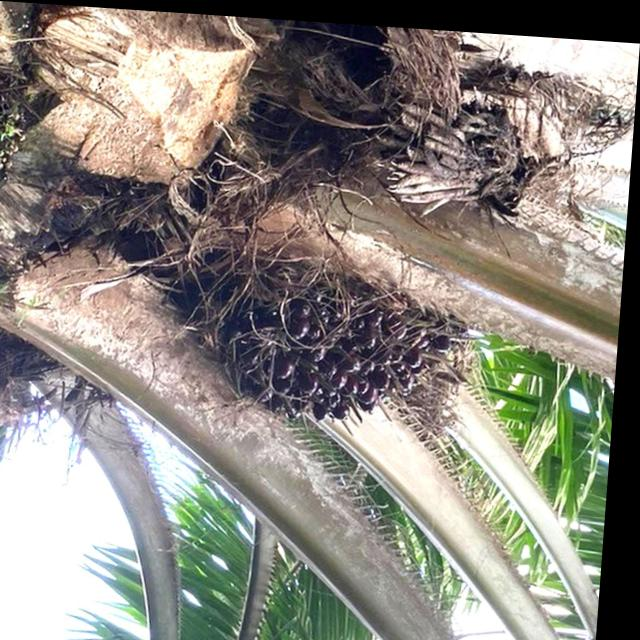ripe: (225, 276, 452, 425)
